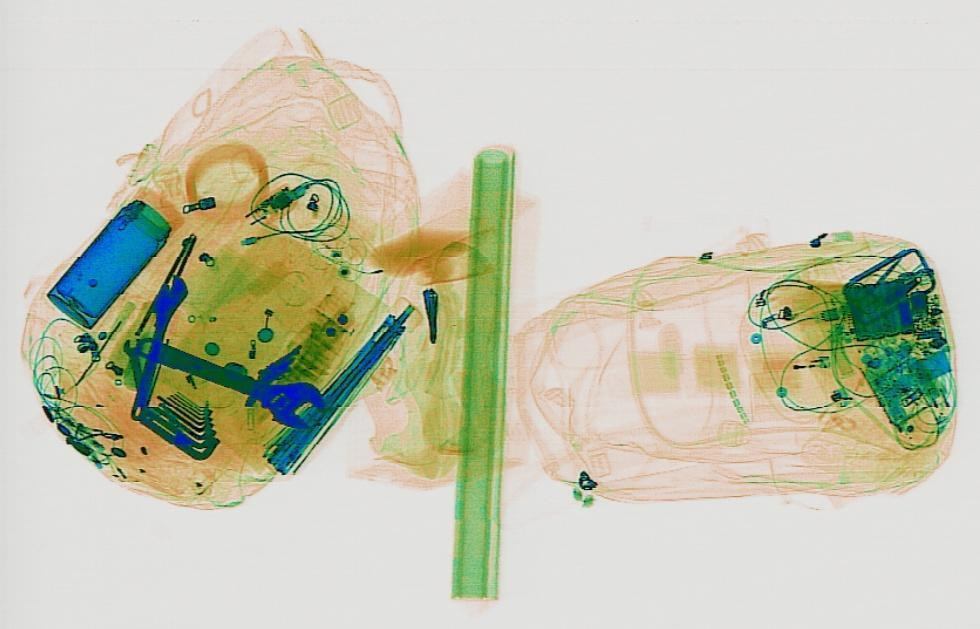Wrench: (114, 319, 346, 434), (119, 275, 191, 420)
